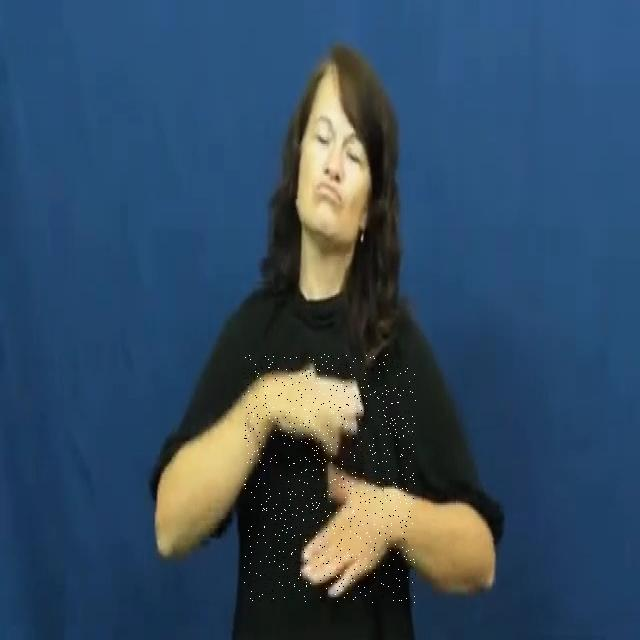enjoy: (244, 354, 416, 603)
